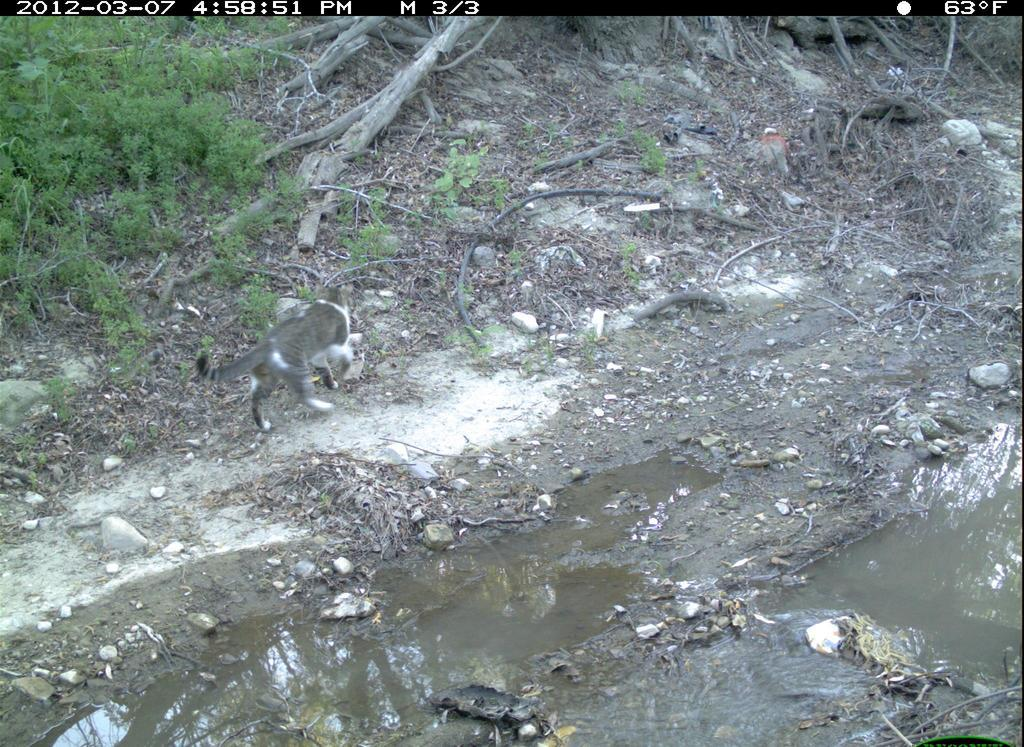cat: (196, 278, 370, 436)
